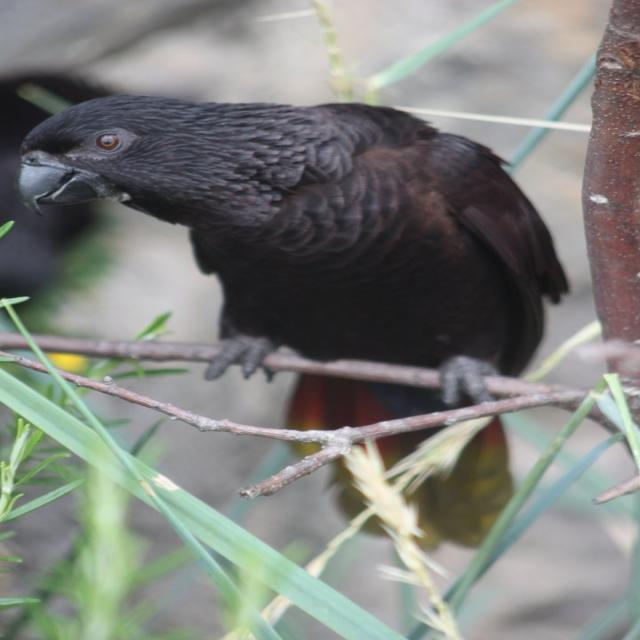Nuri Hitam: (2, 75, 590, 558)
